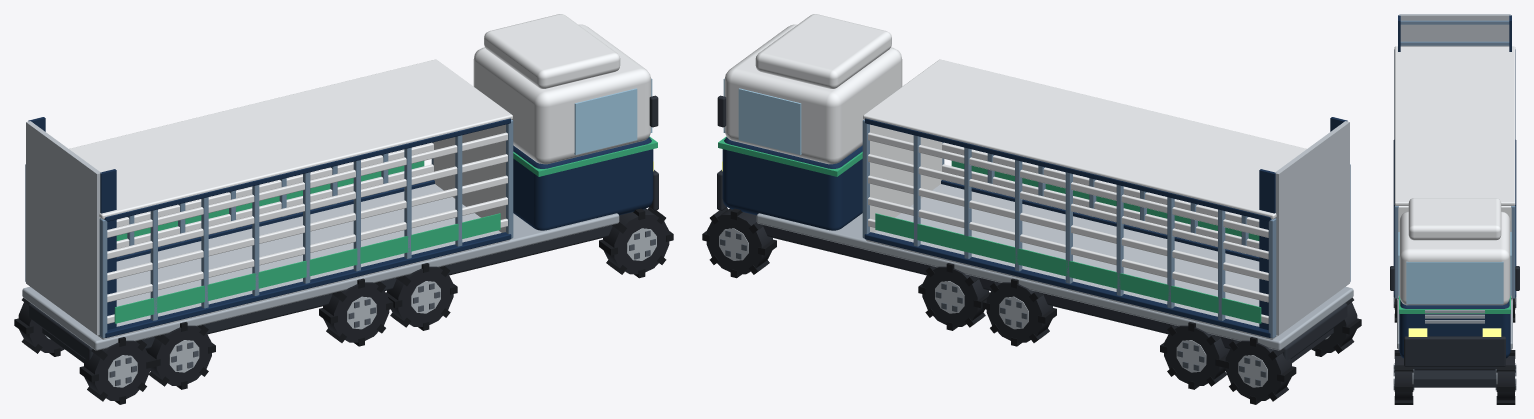
File: camion_ganadero.glb
3 renders of one model, left to right at view 1: azimuth 30°, elevation 25°; view 2: azimuth 150°, elevation 25°; view 3: azimuth 270°, elevation 25°, orthographic. The views are drawn at different scales.
Size of the model in its own units: 11.32 by 4.34 by 2.8.
